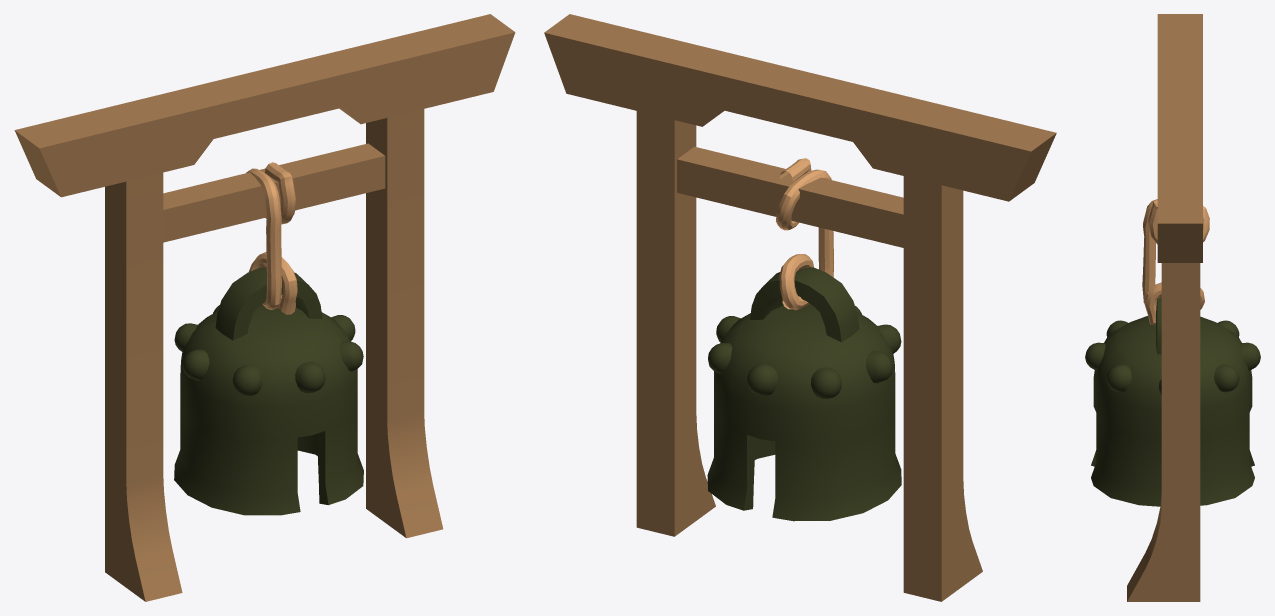
Rendered from Decoration Bell.glb.
3 renders of one model, left to right at view 1: azimuth 30°, elevation 25°; view 2: azimuth 150°, elevation 25°; view 3: azimuth 270°, elevation 25°, orthographic. The views are drawn at different scales.
Parts seen in each view (by area): view 1: Decoration_Bell; view 2: Decoration_Bell; view 3: Decoration_Bell.
Boxes of the visible parts, box(x1,y1,x2,y2) form: Decoration_Bell: box(14, 14, 515, 601); Decoration_Bell: box(544, 14, 1056, 601); Decoration_Bell: box(1085, 14, 1260, 601).
Size of the model in its own units: 3.92 by 3.64 by 1.39.
Materials: 1 (1 with a texture image).
